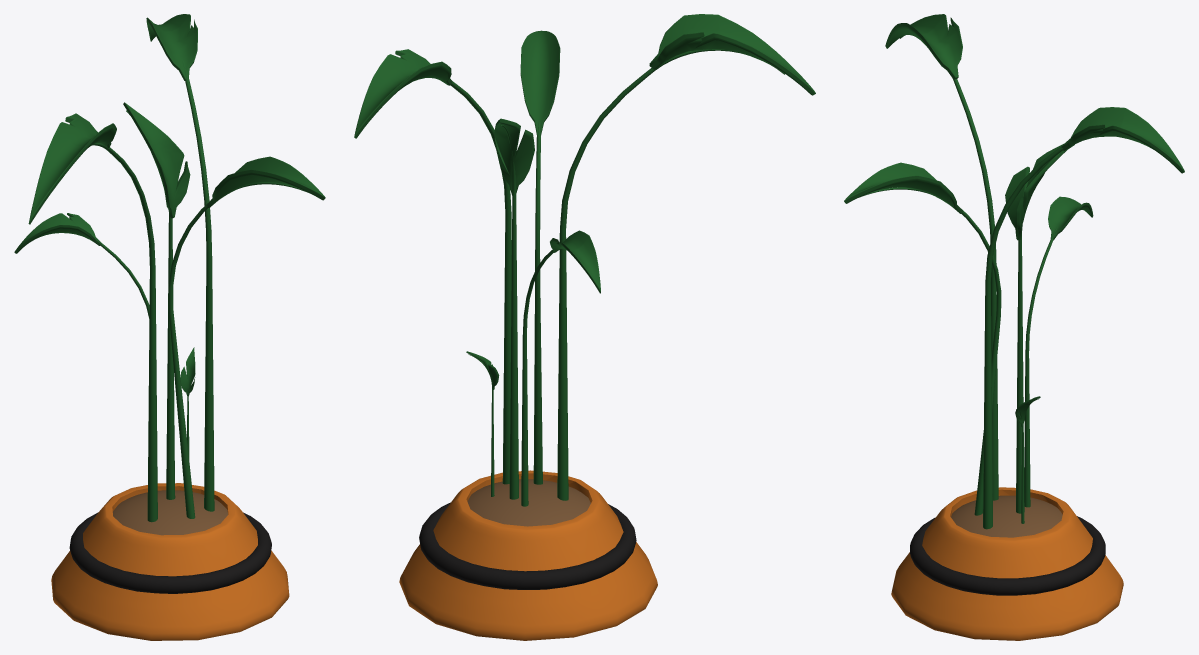
File: BirdOfParadise.fbx
3 views of the same model, side by side, from view 1: azimuth 30°, elevation 25°; view 2: azimuth 150°, elevation 25°; view 3: azimuth 270°, elevation 25° (orthographic). The views are drawn at different scales.
Parts seen in each view (by area): view 1: Pot1, Plant; view 2: Pot1, Plant; view 3: Pot1, Plant.
Part boxes in pixels (box(x1,y1,x2,y2)): Pot1: box(51, 483, 289, 640); Plant: box(14, 14, 325, 522); Pot1: box(399, 470, 657, 640); Plant: box(354, 14, 815, 506); Pot1: box(891, 487, 1123, 640); Plant: box(844, 14, 1184, 529).
Size of the model in its own units: 5.01 by 8.21 by 4.95.
